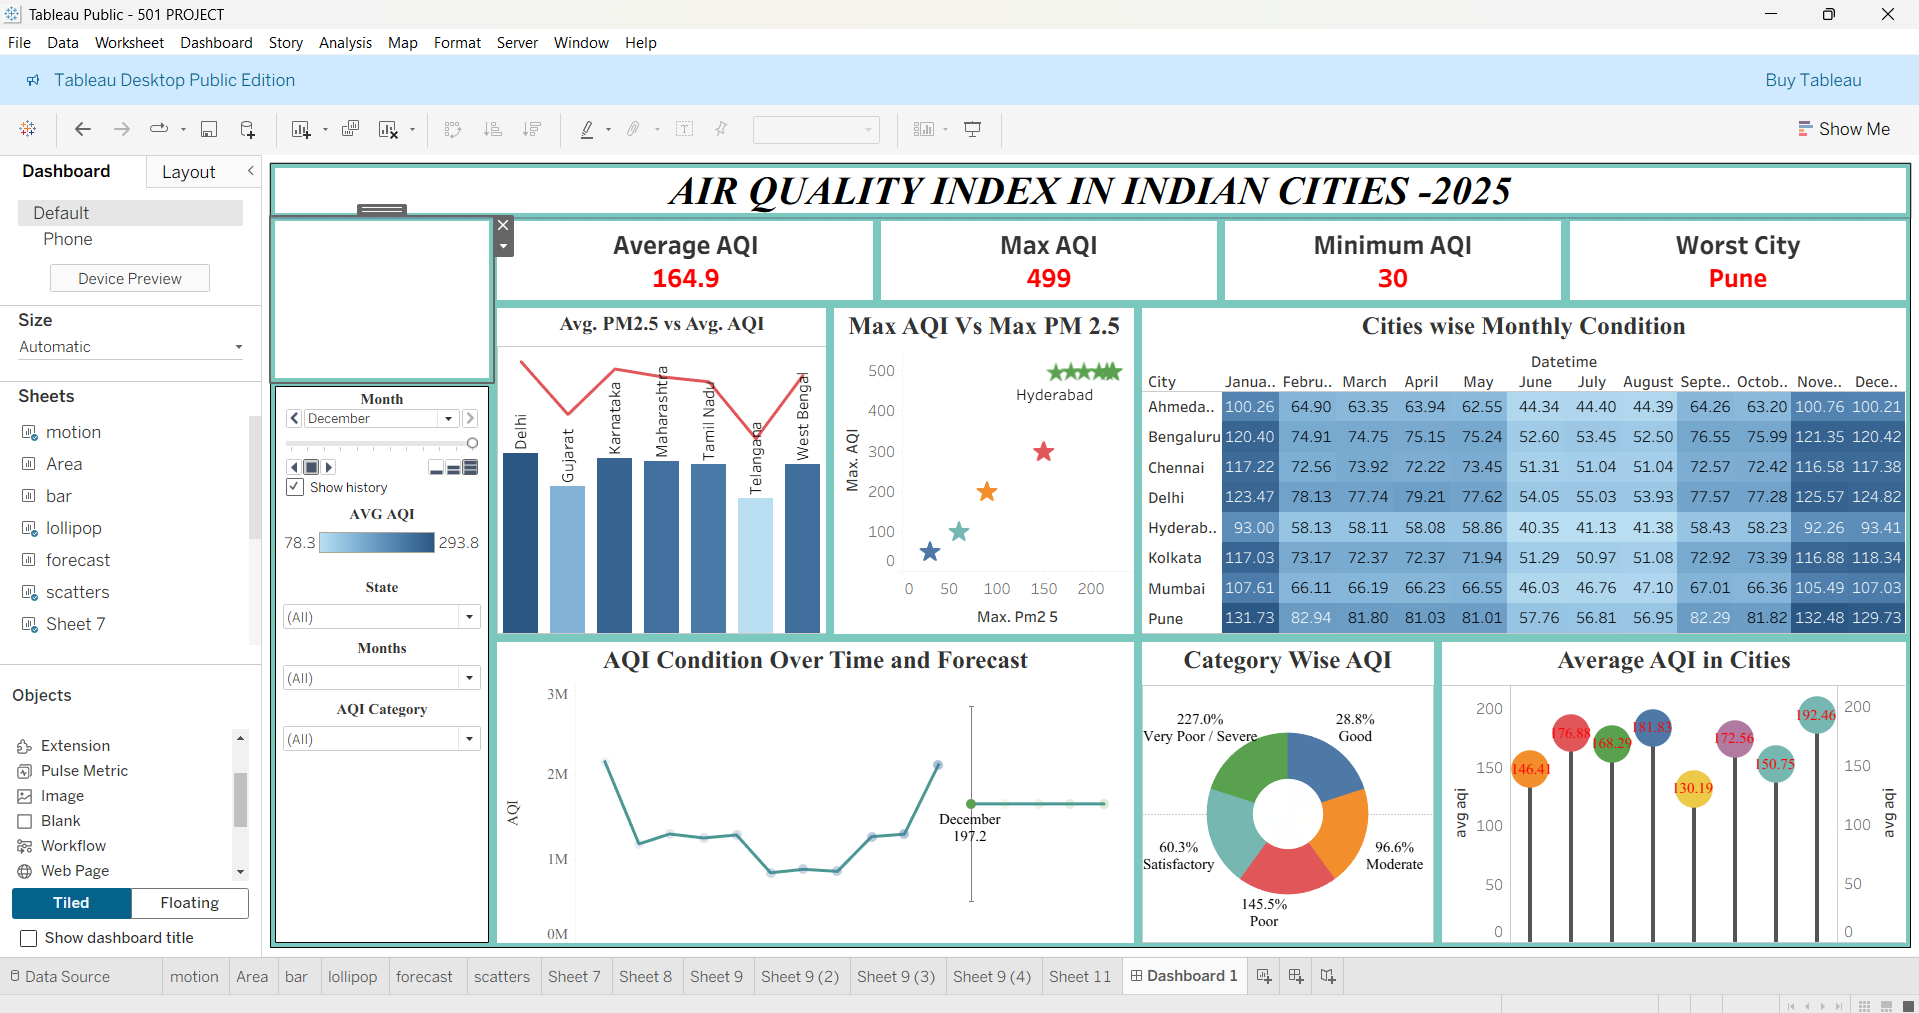

Layout of this report page (visuals, bound fields, positions):
{"tool":"tableau","page":{"name":"Dashboard 1","canvas":[1000,1000],"units":"permille","ordinal":0},"visuals":[{"type":"title","box":[5.4,11.2,989.1,52.4]},{"type":"image","param":"Image/ChatGPT Image Apr 19, 2026, 03_58_22 PM.png","box":[5.4,63.7,133.8,209.1]},{"type":"worksheet","title":"Sheet 9","mark":"Automatic","box":[139.2,63.7,232.1,109.9]},{"type":"worksheet","title":"Sheet 9 (2)","mark":"Automatic","box":[371.3,63.7,207.7,109.9]},{"type":"worksheet","title":"Sheet 9 (4)","mark":"Text","box":[579,63.7,207.8,109.9]},{"type":"worksheet","title":"Sheet 9 (3)","mark":"Text","box":[786.8,63.7,207.8,109.9]},{"type":"worksheet","title":"Sheet 7","mark":"Automatic","rows":["PM2_5","AQI"],"cols":["state"],"box":[139.2,173.6,203.7,423.6]},{"type":"worksheet","title":"scatters","mark":"Automatic","rows":["AQI"],"cols":["PM2_5"],"box":[343,173.6,185.7,423.6]},{"type":"worksheet","title":"Sheet 8","mark":"Square","rows":["city"],"cols":["datetime"],"box":[528.6,173.6,465.9,423.6]},{"type":"currpage","title":"motion","box":[8.4,279,127.8,143.6]},{"type":"legend","title":"Sheet 8","param":"[federated.19svdyv0bliaqp168vqvb1hg3psa].[usr:Calculation_7468094104119091200:qk","box":[8.4,422.6,127.8,91.1]},{"type":"filter","title":"Sheet 7","param":"[federated.19svdyv0bliaqp168vqvb1hg3psa].[none:state:nk]","box":[8.4,513.7,127.8,76.2]},{"type":"filter","title":"Sheet 7","param":"[federated.19svdyv0bliaqp168vqvb1hg3psa].[mn:datetime:ok]","box":[8.4,589.9,127.8,76.2]},{"type":"worksheet","title":"motion","mark":"Circle","rows":["AQI"],"cols":["datetime"],"box":[139.2,597.2,389.4,391.6]},{"type":"worksheet","title":"Sheet 11","mark":"Automatic","rows":["Calculation_8352207006634676227","Calculation_8352207006634688517"],"box":[528.6,597.2,180.8,391.6]},{"type":"worksheet","title":"lollipop","mark":"Bar","rows":["Calculation_7468094104119091200","Calculation_7468094104119091200"],"cols":["city"],"box":[709.5,597.2,285.1,391.6]},{"type":"filter","title":"Sheet 7","param":"[federated.19svdyv0bliaqp168vqvb1hg3psa].[none:AQI_Category:nk]","box":[8.4,666,127.8,76.2]}]}

Visuals, with their boxes on the dashboard's canvas, which has no fixed pixel size, in thousandths of its width and height (x1, y1, x2, y2). These are canvas units, not pixel positions in the 1919x1013 screenshot, which may show the page scaled, cropped or inside an application window:
title: (5, 11, 994, 64)
image: (5, 64, 139, 273)
"Sheet 9" worksheet: (139, 64, 371, 174)
"Sheet 9 (2)" worksheet: (371, 64, 579, 174)
"Sheet 9 (4)" worksheet (Text marks): (579, 64, 787, 174)
"Sheet 9 (3)" worksheet (Text marks): (787, 64, 995, 174)
"Sheet 7" worksheet: (139, 174, 343, 597)
"scatters" worksheet: (343, 174, 529, 597)
"Sheet 8" worksheet (Square marks): (529, 174, 994, 597)
"motion" currpage: (8, 279, 136, 423)
"Sheet 8" legend: (8, 423, 136, 514)
"Sheet 7" filter: (8, 514, 136, 590)
"Sheet 7" filter: (8, 590, 136, 666)
"motion" worksheet (Circle marks): (139, 597, 529, 989)
"Sheet 11" worksheet: (529, 597, 709, 989)
"lollipop" worksheet (Bar marks): (710, 597, 995, 989)
"Sheet 7" filter: (8, 666, 136, 742)
